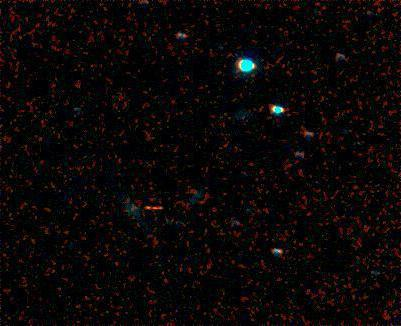star: (140, 195, 170, 225)
